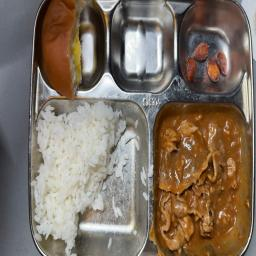100_beef: (153, 104, 247, 253)
25_nuts: (181, 7, 242, 92)
50_bread: (38, 2, 106, 89)
50_rice: (34, 100, 146, 248)
empty: (113, 7, 172, 88)
